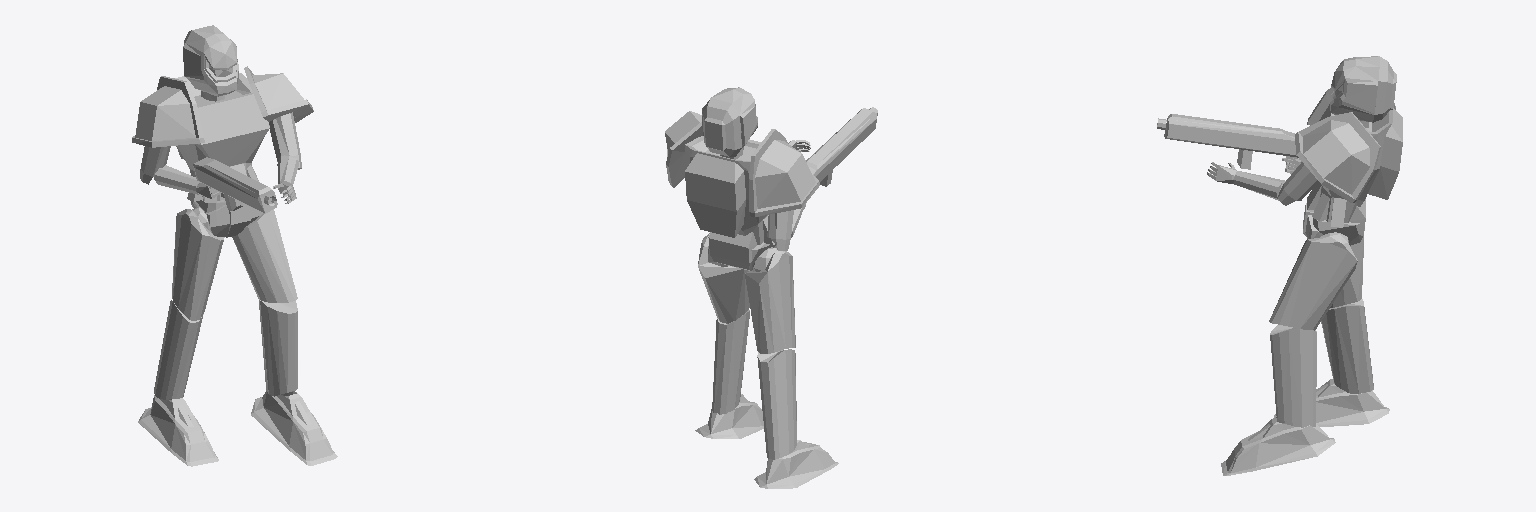
Rendered from robots_000001.obj.
3 renders of one model, left to right at view 1: azimuth 30°, elevation 25°; view 2: azimuth 150°, elevation 25°; view 3: azimuth 270°, elevation 25°, orthographic.
Visible parts, largest first — view 1: Chest_plate_Cube.004, R_Thigh_Cube.005, Cube.002_Cube.059, R_Thigh.002_Cube.027, R_Foot.002_Cube.035, R_Shin.002_Cube.029, Head_base_Cube.022, R_Foot_Cube, R_Shin_Cube.007, Cube_Cube.001, Cube_Cube.021, Pelvis_Cube.006 (+3 smaller); view 2: Chest_plate_Cube.004, Cube.002_Cube.059, R_Thigh_Cube.005, R_Shin_Cube.007, Head_base_Cube.022, R_Shin.002_Cube.029, R_Thigh.002_Cube.027, R_Foot_Cube, Cube_Cube.001, R_Foot.002_Cube.035, Cube_Cube.021, Pelvis_Cube.006 (+1 smaller); view 3: Cube_Cube.021, R_Thigh.002_Cube.027, R_Shin.002_Cube.029, Cube_Cube.001, Chest_plate_Cube.004, R_Foot.002_Cube.035, R_Shin_Cube.007, Head_base_Cube.022, R_Foot_Cube, Pelvis_Cube.006, L_Arm_Cube.014, R_Thigh_Cube.005 (+1 smaller).
Boxes of the visible parts, x1=… form: Chest_plate_Cube.004: x1=175, y1=73, x2=269, y2=202; R_Thigh_Cube.005: x1=172, y1=209, x2=224, y2=320; Cube.002_Cube.059: x1=132, y1=76, x2=204, y2=147; R_Thigh.002_Cube.027: x1=232, y1=209, x2=297, y2=302; R_Foot.002_Cube.035: x1=251, y1=391, x2=337, y2=465; R_Shin.002_Cube.029: x1=259, y1=299, x2=297, y2=396; Head_base_Cube.022: x1=183, y1=25, x2=238, y2=96; R_Foot_Cube: x1=138, y1=395, x2=218, y2=466; R_Shin_Cube.007: x1=154, y1=300, x2=203, y2=399; Cube_Cube.001: x1=193, y1=157, x2=277, y2=213; Cube_Cube.021: x1=244, y1=66, x2=313, y2=122; Pelvis_Cube.006: x1=191, y1=200, x2=262, y2=237; Chest_plate_Cube.004: x1=685, y1=136, x2=774, y2=244; Cube.002_Cube.059: x1=749, y1=129, x2=819, y2=216; R_Thigh_Cube.005: x1=745, y1=250, x2=795, y2=353; R_Shin_Cube.007: x1=757, y1=349, x2=796, y2=459; Head_base_Cube.022: x1=702, y1=87, x2=757, y2=156; R_Shin.002_Cube.029: x1=712, y1=310, x2=749, y2=414; R_Thigh.002_Cube.027: x1=698, y1=233, x2=749, y2=323; R_Foot_Cube: x1=754, y1=440, x2=838, y2=488; Cube_Cube.001: x1=806, y1=107, x2=877, y2=186; R_Foot.002_Cube.035: x1=695, y1=394, x2=763, y2=438; Cube_Cube.021: x1=665, y1=111, x2=702, y2=187; Pelvis_Cube.006: x1=708, y1=232, x2=777, y2=270; Cube_Cube.021: x1=1295, y1=112, x2=1380, y2=202; R_Thigh.002_Cube.027: x1=1269, y1=236, x2=1357, y2=330; R_Shin.002_Cube.029: x1=1270, y1=325, x2=1316, y2=427; Cube_Cube.001: x1=1157, y1=114, x2=1298, y2=173; Chest_plate_Cube.004: x1=1307, y1=104, x2=1402, y2=227; R_Foot.002_Cube.035: x1=1221, y1=417, x2=1335, y2=475; R_Shin_Cube.007: x1=1321, y1=299, x2=1373, y2=393; Head_base_Cube.022: x1=1330, y1=56, x2=1396, y2=122; R_Foot_Cube: x1=1274, y1=379, x2=1389, y2=426; Pelvis_Cube.006: x1=1303, y1=199, x2=1365, y2=245; L_Arm_Cube.014: x1=1278, y1=162, x2=1318, y2=205; R_Thigh_Cube.005: x1=1330, y1=229, x2=1364, y2=307.
Bounding box in the file's own units: 1.32 × 3.11 × 1.78.